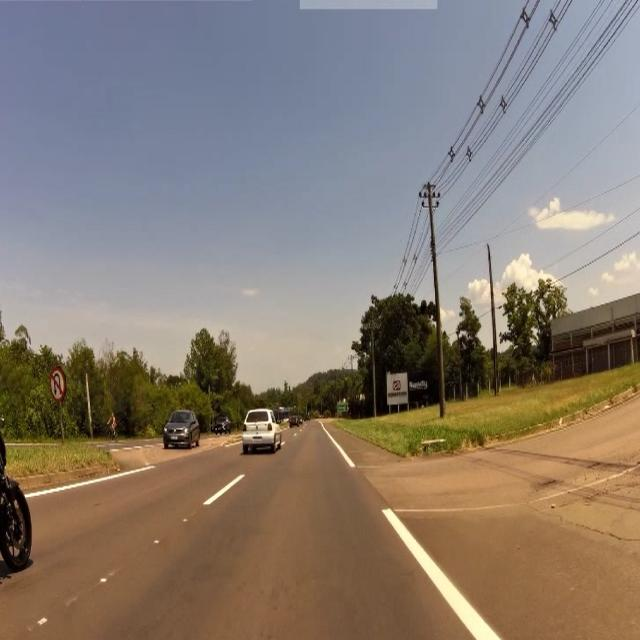R-5a: (50, 374, 66, 396)
